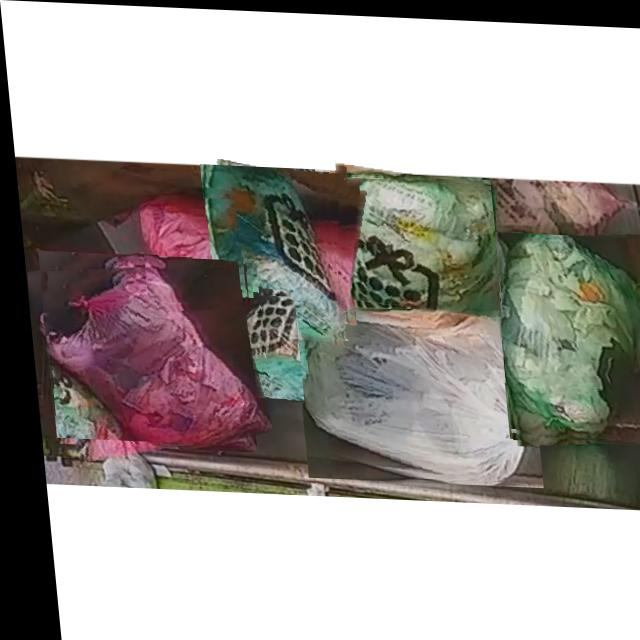general_trashbag: (495, 229, 640, 433), (204, 164, 338, 339), (331, 174, 493, 311), (198, 293, 290, 395)
other_trashbag: (294, 293, 525, 477), (37, 263, 264, 443), (135, 195, 233, 302)
